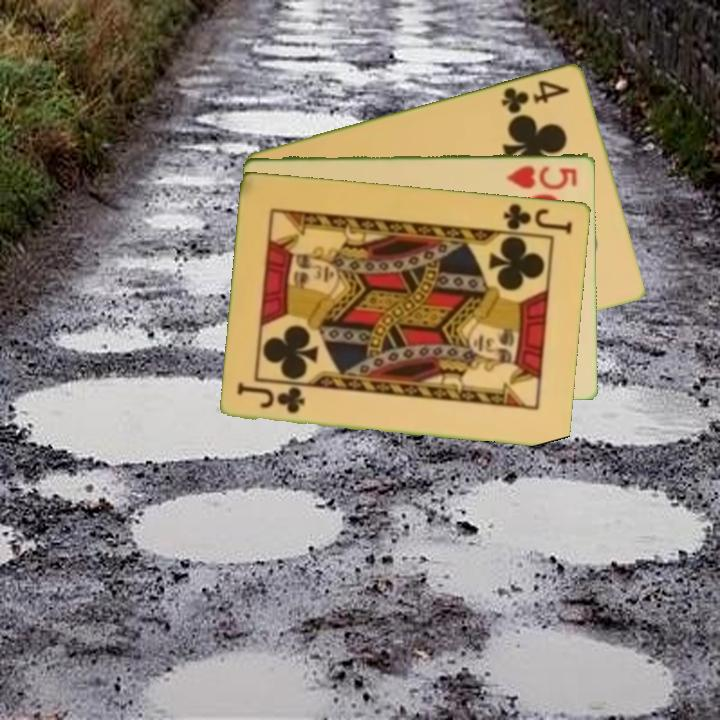4c: (498, 76, 573, 117)
5h: (504, 161, 581, 190)
Jc: (500, 199, 575, 237), (234, 380, 308, 416)
